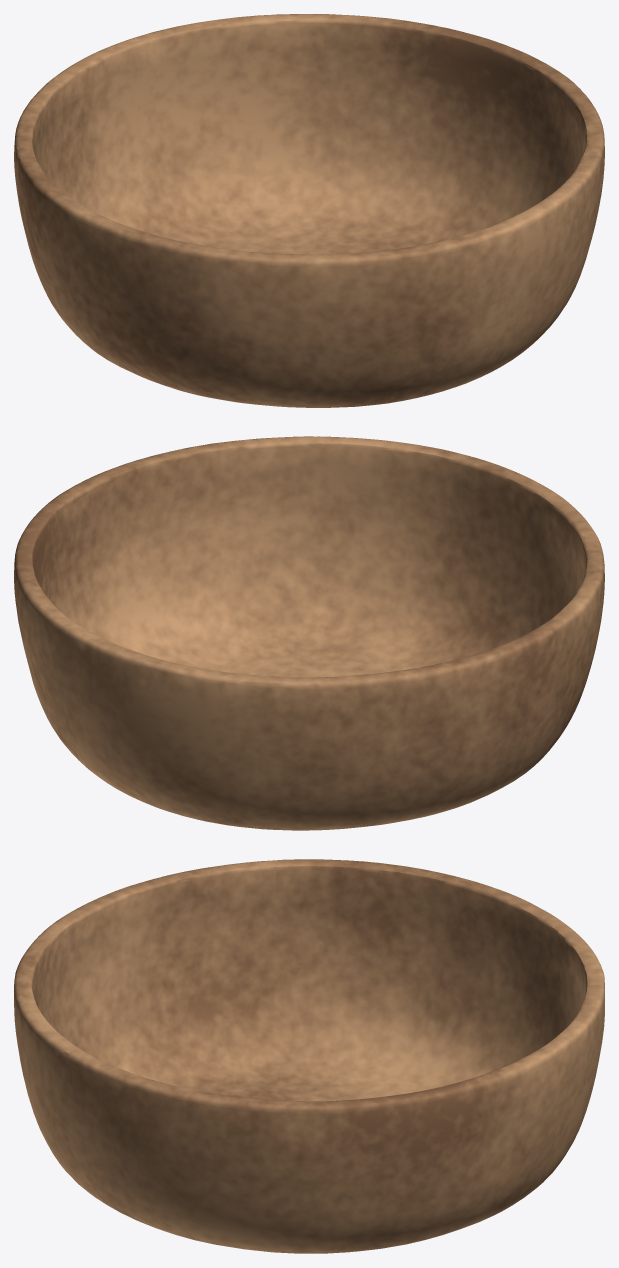
The model's file is stone-basin-v001.glb.
3 views of the same model, one above another, from view 1: azimuth 30°, elevation 25°; view 2: azimuth 150°, elevation 25°; view 3: azimuth 270°, elevation 25° (orthographic).
Parts seen in each view (by area): view 1: stone-basin; view 2: stone-basin; view 3: stone-basin.
Boxes of the visible parts, bbox=[...] form: stone-basin: bbox=[14, 14, 604, 407]; stone-basin: bbox=[14, 436, 604, 830]; stone-basin: bbox=[14, 859, 604, 1253].
Size of the model in its own units: 1.16 by 0.4 by 1.16.
Materials: 1 (1 with a texture image).
